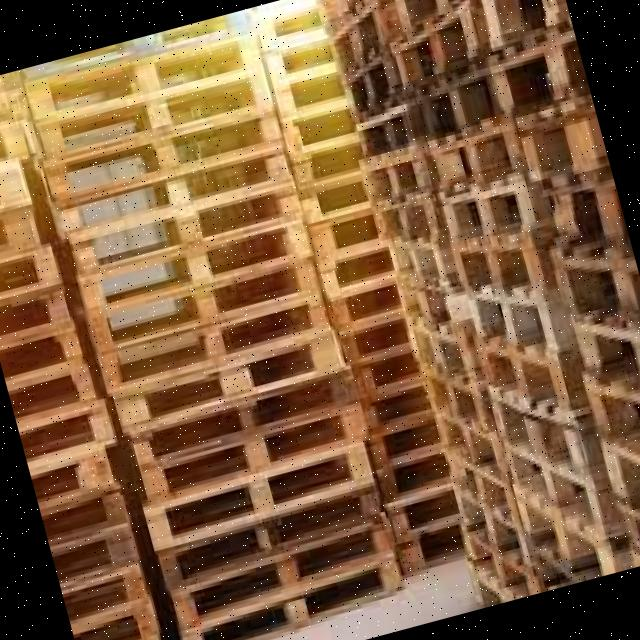Wooden-Pallets: (168, 511, 404, 634), (136, 437, 382, 553), (112, 322, 350, 438), (78, 212, 320, 320), (57, 142, 290, 238), (489, 385, 593, 490), (469, 287, 563, 355), (438, 176, 533, 236)
